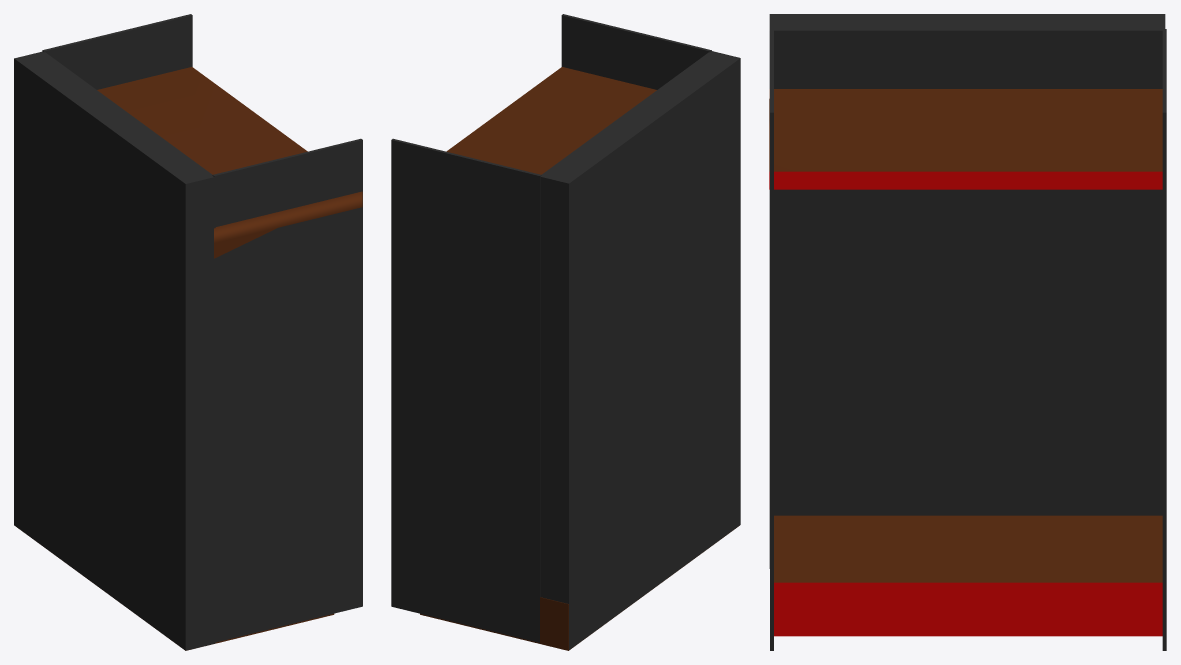
The model's file is red_shelf.fbx.
3 views of the same model, side by side, from view 1: azimuth 30°, elevation 25°; view 2: azimuth 150°, elevation 25°; view 3: azimuth 270°, elevation 25° (orthographic). The views are drawn at different scales.
Parts seen in each view (by area): view 1: pCube2, pCube7, pCube6, pCube46; view 2: pCube2, pCube46, pCube6, pCube7, pCube1; view 3: pCube2, pCube1, pCube6, pCube46, pCube7.
Part boxes in pixels (x1=…): pCube2: x1=14, y1=51, x2=215, y2=650; pCube7: x1=212, y1=138, x2=362, y2=642; pCube6: x1=97, y1=67, x2=362, y2=258; pCube46: x1=42, y1=14, x2=192, y2=89; pCube2: x1=540, y1=51, x2=740, y2=649; pCube46: x1=391, y1=138, x2=541, y2=642; pCube6: x1=446, y1=67, x2=656, y2=174; pCube7: x1=561, y1=14, x2=711, y2=89; pCube1: x1=420, y1=525, x2=739, y2=650; pCube2: x1=769, y1=14, x2=1165, y2=568; pCube1: x1=774, y1=515, x2=1162, y2=636; pCube6: x1=769, y1=89, x2=1162, y2=189; pCube46: x1=1162, y1=29, x2=1166, y2=650; pCube7: x1=770, y1=29, x2=773, y2=650.
Bounding box in the file's own units: 0.5983 × 1.51 × 1.01.
